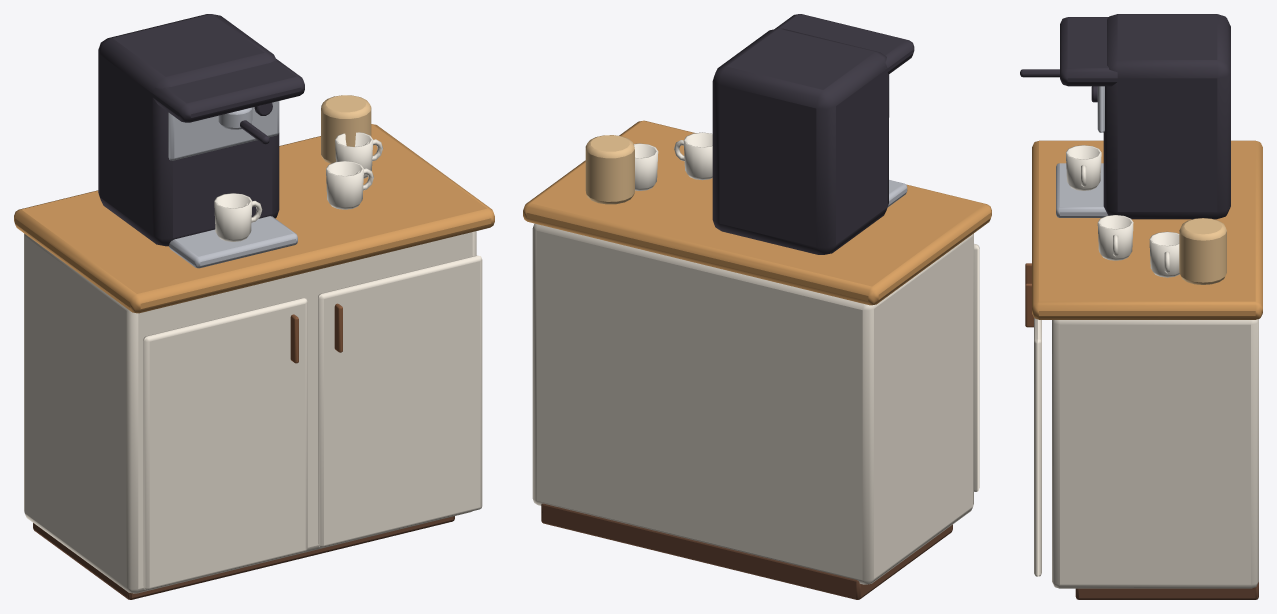
The model's file is coffee_machine.glb.
3 renders of one model, left to right at view 1: azimuth 30°, elevation 25°; view 2: azimuth 150°, elevation 25°; view 3: azimuth 270°, elevation 25°, orthographic. The views are drawn at different scales.
Parts seen in each view (by area): view 1: coffee_machine; view 2: coffee_machine; view 3: coffee_machine.
Boxes of the visible parts, box(x1,y1,x2,y2) form: coffee_machine: box(14, 14, 494, 599); coffee_machine: box(523, 14, 991, 599); coffee_machine: box(1020, 14, 1262, 599).
Bounding box in the file's own units: 0.99 × 1.29 × 0.61.
